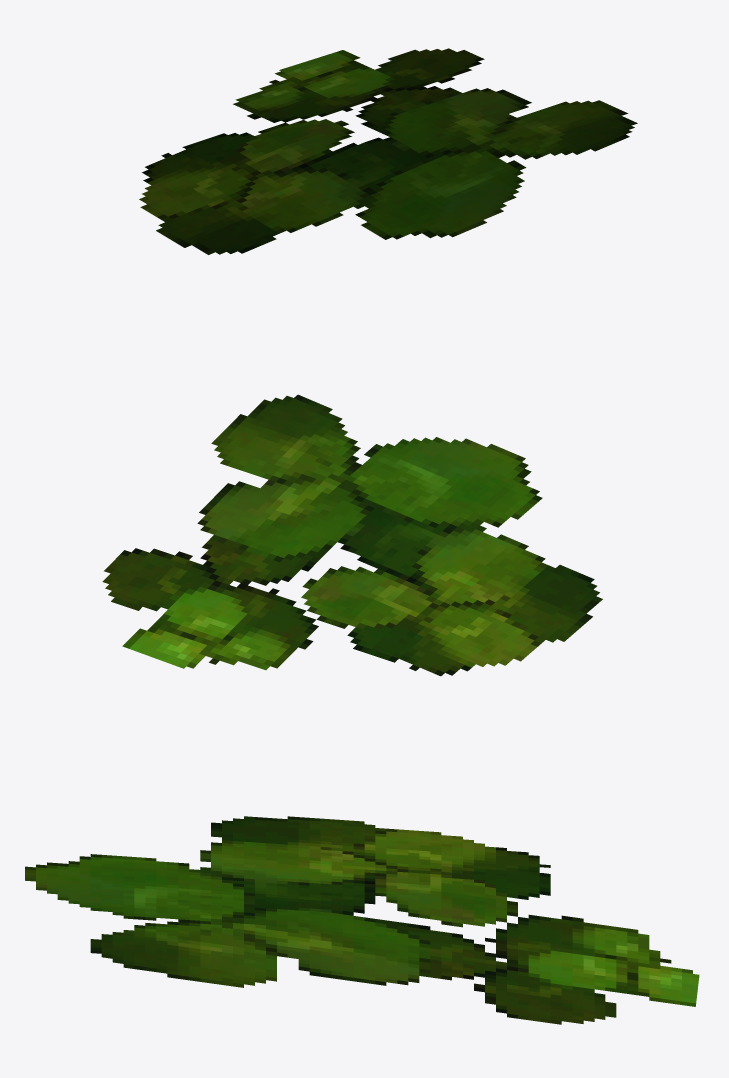
3 views of the same model, one above another, from view 1: azimuth 30°, elevation 25°; view 2: azimuth 150°, elevation 25°; view 3: azimuth 270°, elevation 25° (orthographic). The views are drawn at different scales.
Parts seen in each view (by area): view 1: Joint_0_Object_0; view 2: Joint_0_Object_0; view 3: Joint_0_Object_0.
Part boxes in pixels (x1=…): Joint_0_Object_0: x1=139, y1=48, x2=637, y2=254; Joint_0_Object_0: x1=102, y1=394, x2=602, y2=676; Joint_0_Object_0: x1=25, y1=816, x2=699, y2=1024.
Bounding box in the file's own units: 408 × 98.82 × 423.
Materials: 1 (1 with a texture image).
